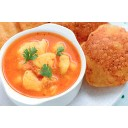poori: (83, 23, 128, 84)
